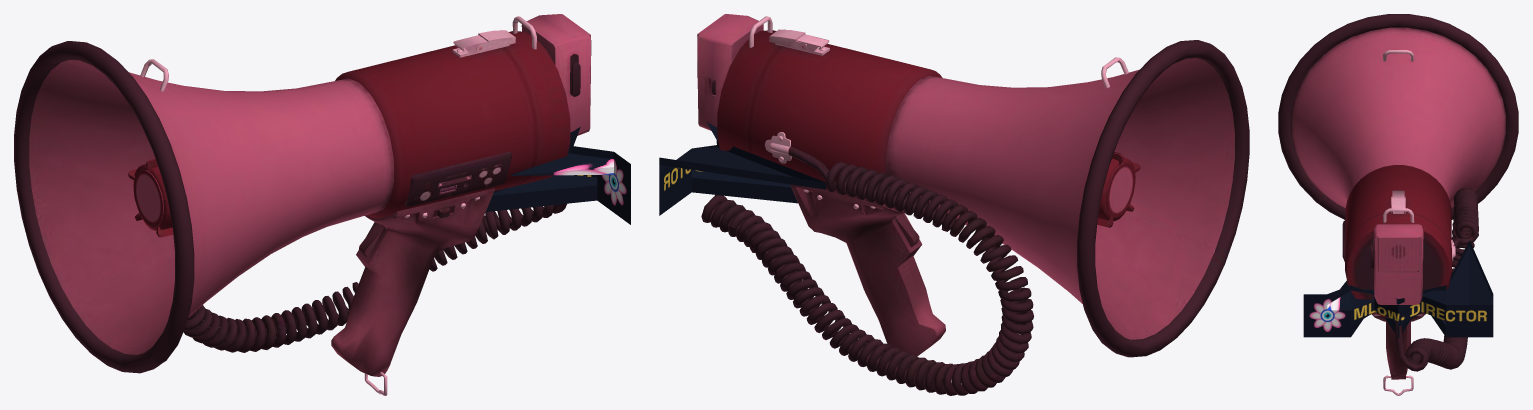
File: nyb_tootsie_megaphone.glb
The picture shows the model from 3 angles, left to right: view 1: azimuth 30°, elevation 25°; view 2: azimuth 150°, elevation 25°; view 3: azimuth 270°, elevation 25°; orthographic projection. The views are drawn at different scales.
Visible parts, largest first — view 1: Megaphone_01, stk_lbl_8c231b9628.png; view 2: Megaphone_01, stk_lbl_8c231b9628.png; view 3: Megaphone_01, stk_lbl_8c231b9628.png.
Part boxes in pixels (x1,y1,x2,y2): Megaphone_01: [14, 14, 591, 395]; stk_lbl_8c231b9628.png: [486, 127, 630, 224]; Megaphone_01: [697, 14, 1249, 395]; stk_lbl_8c231b9628.png: [659, 122, 826, 215]; Megaphone_01: [1278, 14, 1518, 395]; stk_lbl_8c231b9628.png: [1303, 240, 1493, 338].
Size of the model in its own units: 0.3713 by 0.3 by 0.2281.
Materials: 2 (2 with a texture image).
